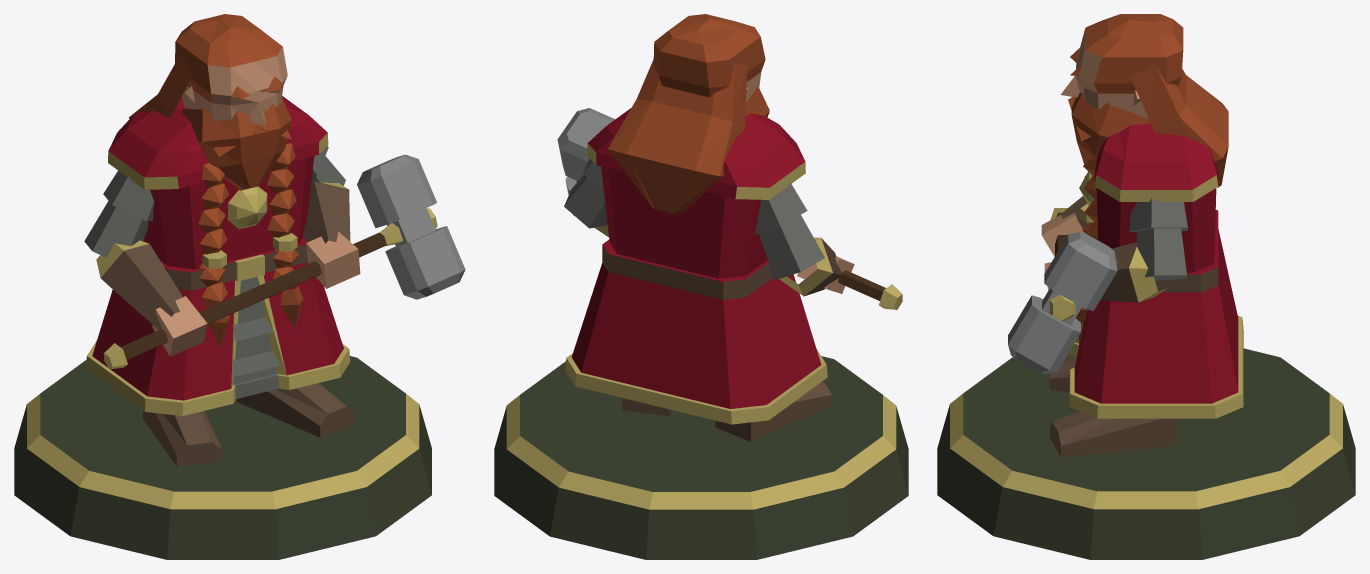
The model's file is dwarf-cleric-miniature-55dd96.glb.
3 views of the same model, side by side, from view 1: azimuth 30°, elevation 25°; view 2: azimuth 150°, elevation 25°; view 3: azimuth 270°, elevation 25° (orthographic).
Parts seen in each view (by area): view 1: dwarf-cleric, head; view 2: dwarf-cleric, head; view 3: dwarf-cleric, head.
Boxes of the visible parts, box(x1,y1,x2,y2) form: dwarf-cleric: box(14, 53, 465, 559); head: box(175, 14, 291, 190); dwarf-cleric: box(494, 59, 908, 559); head: box(653, 14, 769, 117); dwarf-cleric: box(937, 64, 1355, 559); head: box(1060, 14, 1183, 164).
Size of the model in its own units: 0.025 by 0.0298 by 0.025.
